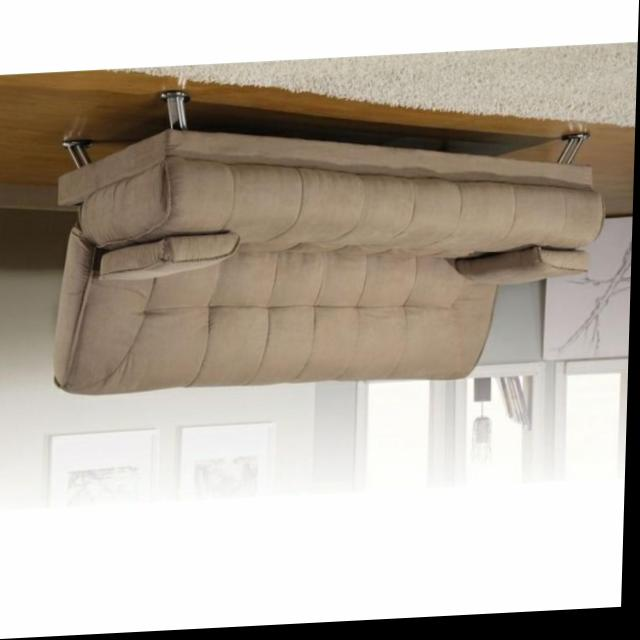Sofa: (57, 74, 612, 402)
